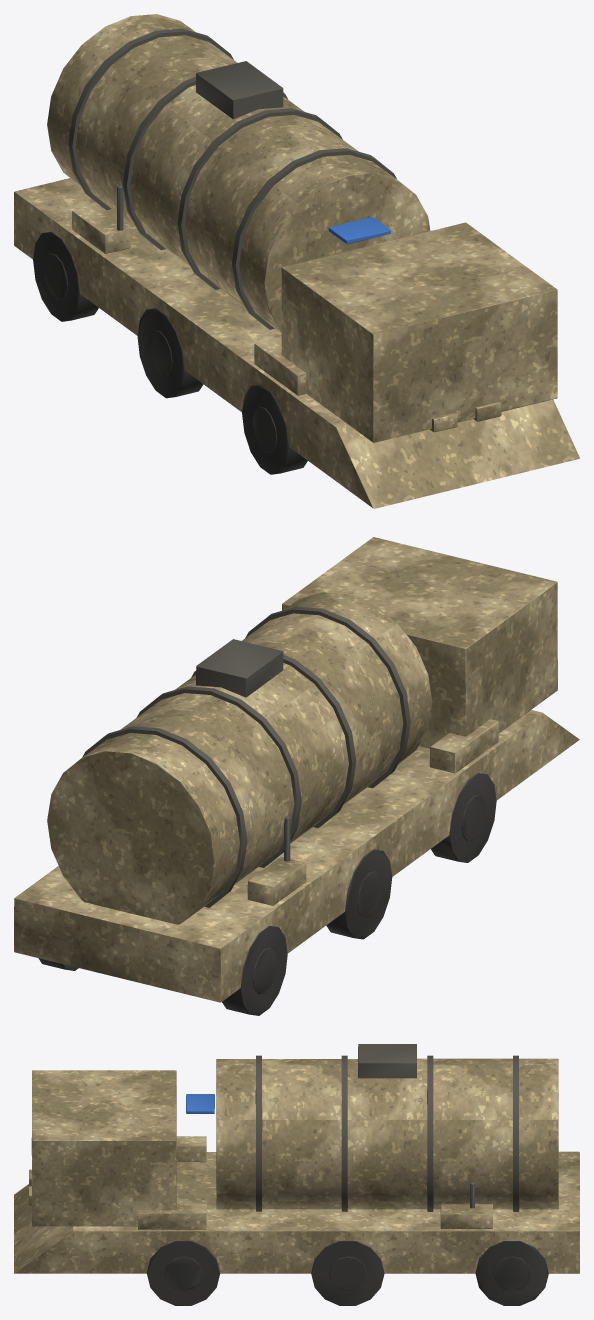
Rendered from log_e4_us_fueltruck_LOD1.glb.
3 renders of one model, top to bottom at view 1: azimuth 30°, elevation 25°; view 2: azimuth 150°, elevation 25°; view 3: azimuth 270°, elevation 25°, orthographic. The views are drawn at different scales.
Parts seen in each view (by area): view 1: log_e4_us_fueltruck_LOD1_body, log_e4_us_fueltruck_LOD1_deck, log_e4_us_fueltruck_LOD1_track, log_e4_us_fueltruck_LOD1_team; view 2: log_e4_us_fueltruck_LOD1_body, log_e4_us_fueltruck_LOD1_deck, log_e4_us_fueltruck_LOD1_track; view 3: log_e4_us_fueltruck_LOD1_body, log_e4_us_fueltruck_LOD1_track, log_e4_us_fueltruck_LOD1_deck, log_e4_us_fueltruck_LOD1_team.
Part boxes in pixels (bbox=[...]): log_e4_us_fueltruck_LOD1_body: bbox=[14, 14, 579, 508]; log_e4_us_fueltruck_LOD1_deck: bbox=[68, 28, 396, 329]; log_e4_us_fueltruck_LOD1_track: bbox=[33, 231, 307, 474]; log_e4_us_fueltruck_LOD1_team: bbox=[328, 217, 391, 244]; log_e4_us_fueltruck_LOD1_body: bbox=[14, 537, 579, 1002]; log_e4_us_fueltruck_LOD1_deck: bbox=[82, 606, 410, 907]; log_e4_us_fueltruck_LOD1_track: bbox=[38, 773, 496, 1015]; log_e4_us_fueltruck_LOD1_body: bbox=[14, 1058, 579, 1273]; log_e4_us_fueltruck_LOD1_track: bbox=[146, 1241, 548, 1305]; log_e4_us_fueltruck_LOD1_deck: bbox=[255, 1044, 519, 1211]; log_e4_us_fueltruck_LOD1_team: bbox=[186, 1094, 214, 1113].
Size of the model in its own units: 2.9 by 3.56 by 8.59.
Materials: 5 (1 with a texture image).
